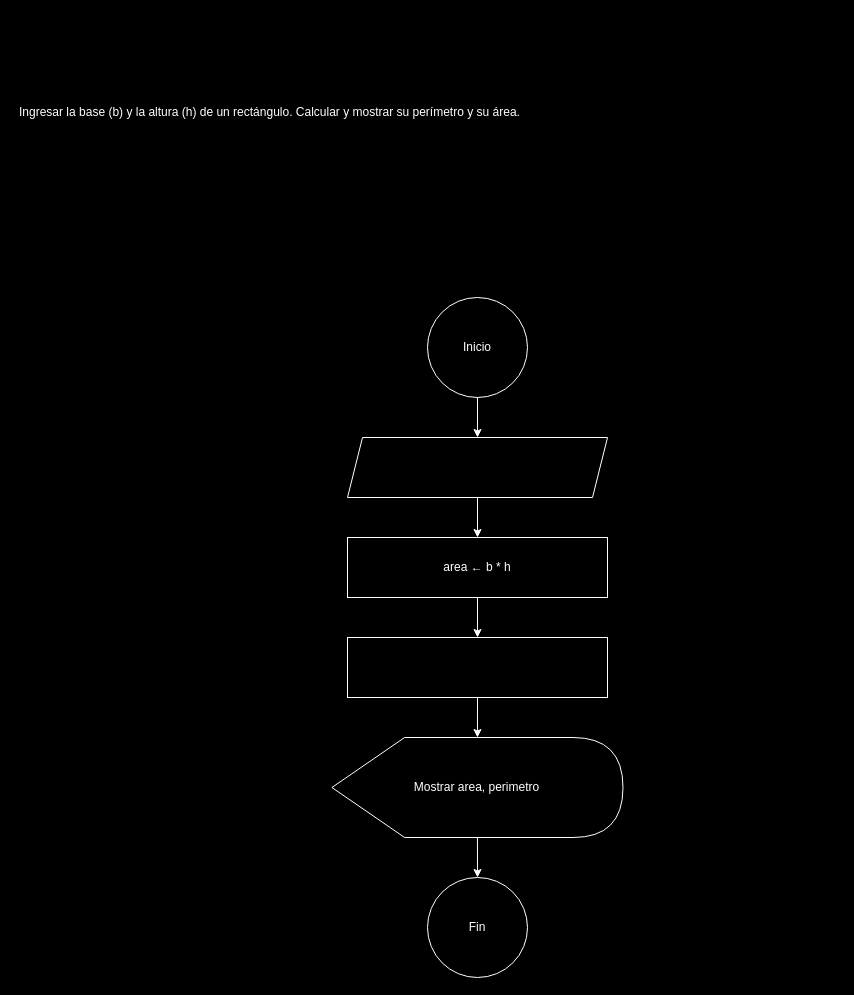
Some shapes in this 854 by 995 pixel diagram are drawn without their labels. The box of each missing label's shape, as (x1, y1, x2, y2) in pixels:
Leer b, h: (346, 436, 608, 498)
perimetro ← 2 * (b + h): (346, 636, 608, 698)
